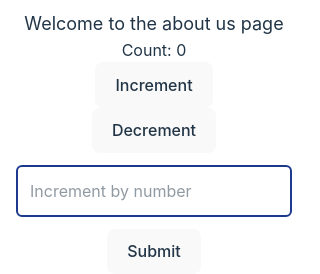
About › should increment by 1 when clicking the + sign
The image size is (320, 274).
// Fire the click event
Click the button "Increment" at (154, 85), box top-left (95, 62), bottom-right (213, 108)
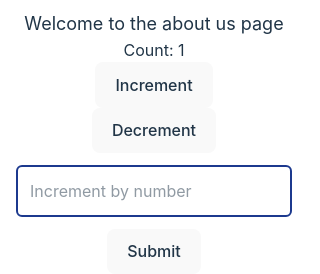
Now the heading with test id "count" reads "Count: 1", box top-left (124, 38), bottom-right (185, 62)
